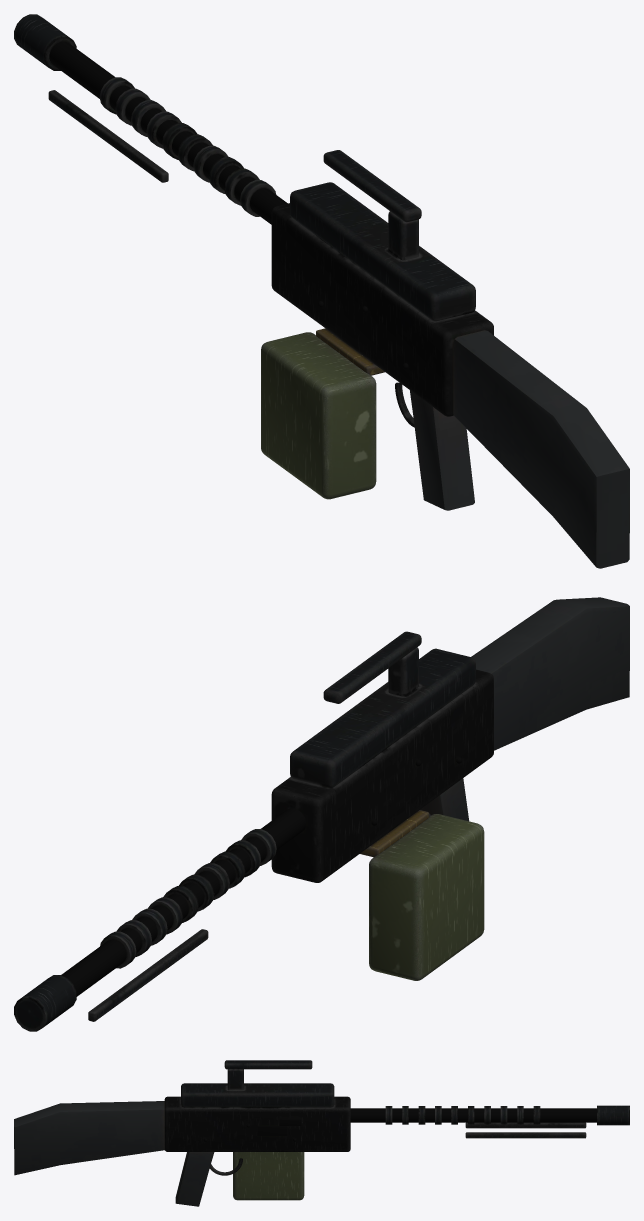
The model's file is negev.glb.
3 renders of one model, top to bottom at view 1: azimuth 30°, elevation 25°; view 2: azimuth 150°, elevation 25°; view 3: azimuth 270°, elevation 25°, orthographic. The views are drawn at different scales.
Parts seen in each view (by area): view 1: body_receiver, body_furniture, mag_receiver, body_metal, mag_metal; view 2: body_receiver, body_furniture, mag_receiver, body_metal, mag_metal; view 3: body_receiver, body_furniture, mag_receiver, body_metal.
Part boxes in pixels (x1,y1,x2,y2): body_receiver: (14,14,493,427); body_furniture: (410,330,629,568); mag_receiver: (261,332,376,499); body_metal: (49,41,408,369); mag_metal: (316,328,384,375); body_receiver: (14,631,493,1031); body_furniture: (420,597,629,821); mag_receiver: (369,814,484,980); body_metal: (61,757,461,996); mag_metal: (360,810,429,857); body_receiver: (164,1060,629,1175); body_furniture: (14,1101,214,1206); mag_receiver: (233,1152,304,1200); body_metal: (203,1108,596,1141).
Bounding box in the file's own units: 0.126 × 0.296 × 1.12.
Materials: 5 (5 with a texture image).
